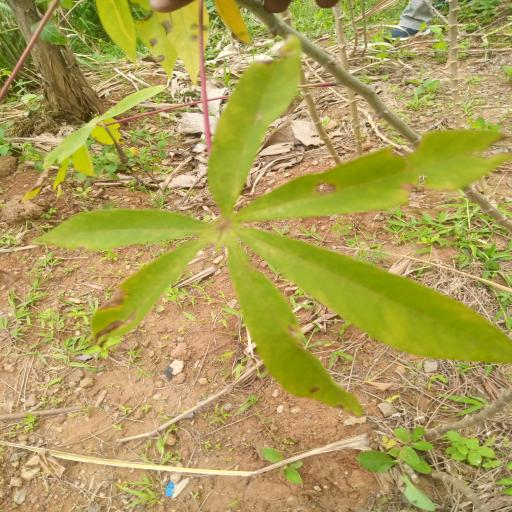Cassava_Brown_Leaf_Spot: (39, 37, 512, 423)
